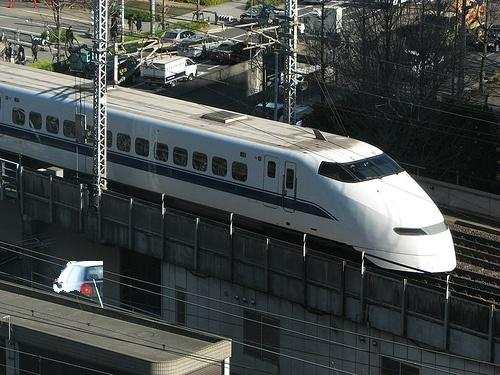tampered: (54, 262, 103, 308)
